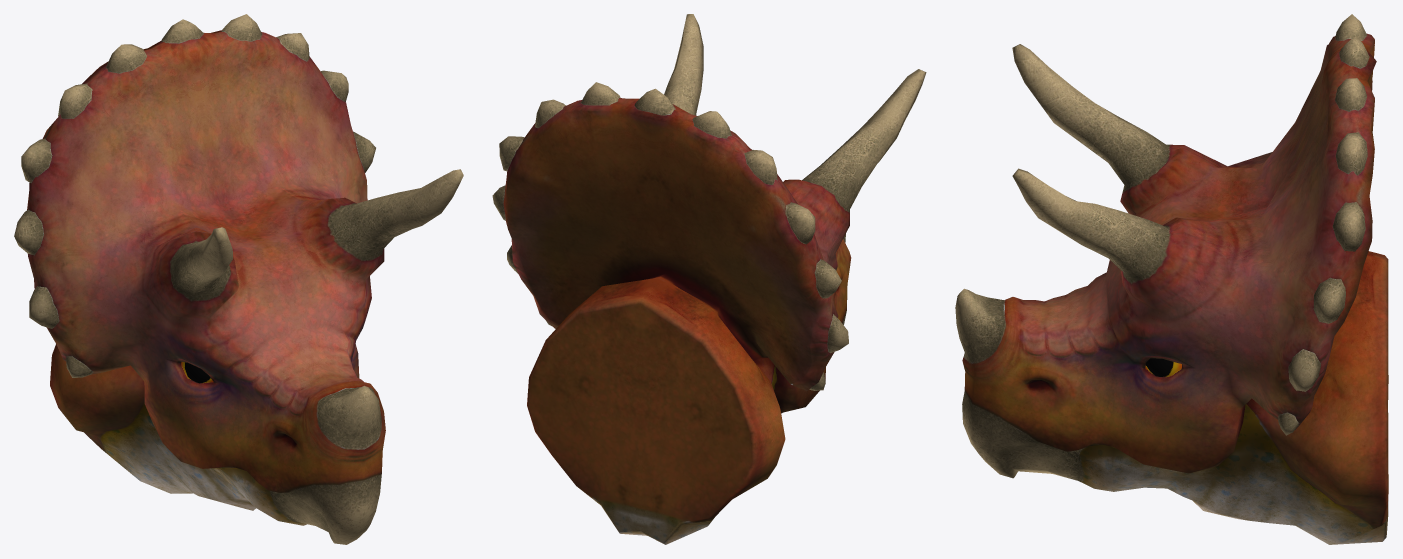
3 renders of one model, left to right at view 1: azimuth 30°, elevation 25°; view 2: azimuth 150°, elevation 25°; view 3: azimuth 270°, elevation 25°, orthographic. The views are drawn at different scales.
Visible parts, largest first — view 1: Trikey_Final; view 2: Trikey_Final; view 3: Trikey_Final.
Boxes of the visible parts, <box> form: Trikey_Final: <box>14,14,463,544</box>; Trikey_Final: <box>492,14,926,544</box>; Trikey_Final: <box>955,14,1388,544</box>.
Size of the model in its own units: 4.27 by 5.28 by 4.11.
1 material, 1 textured.
